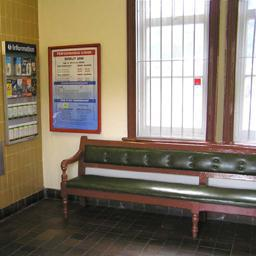Ventana: (131, 4, 217, 141), (220, 1, 254, 148)
